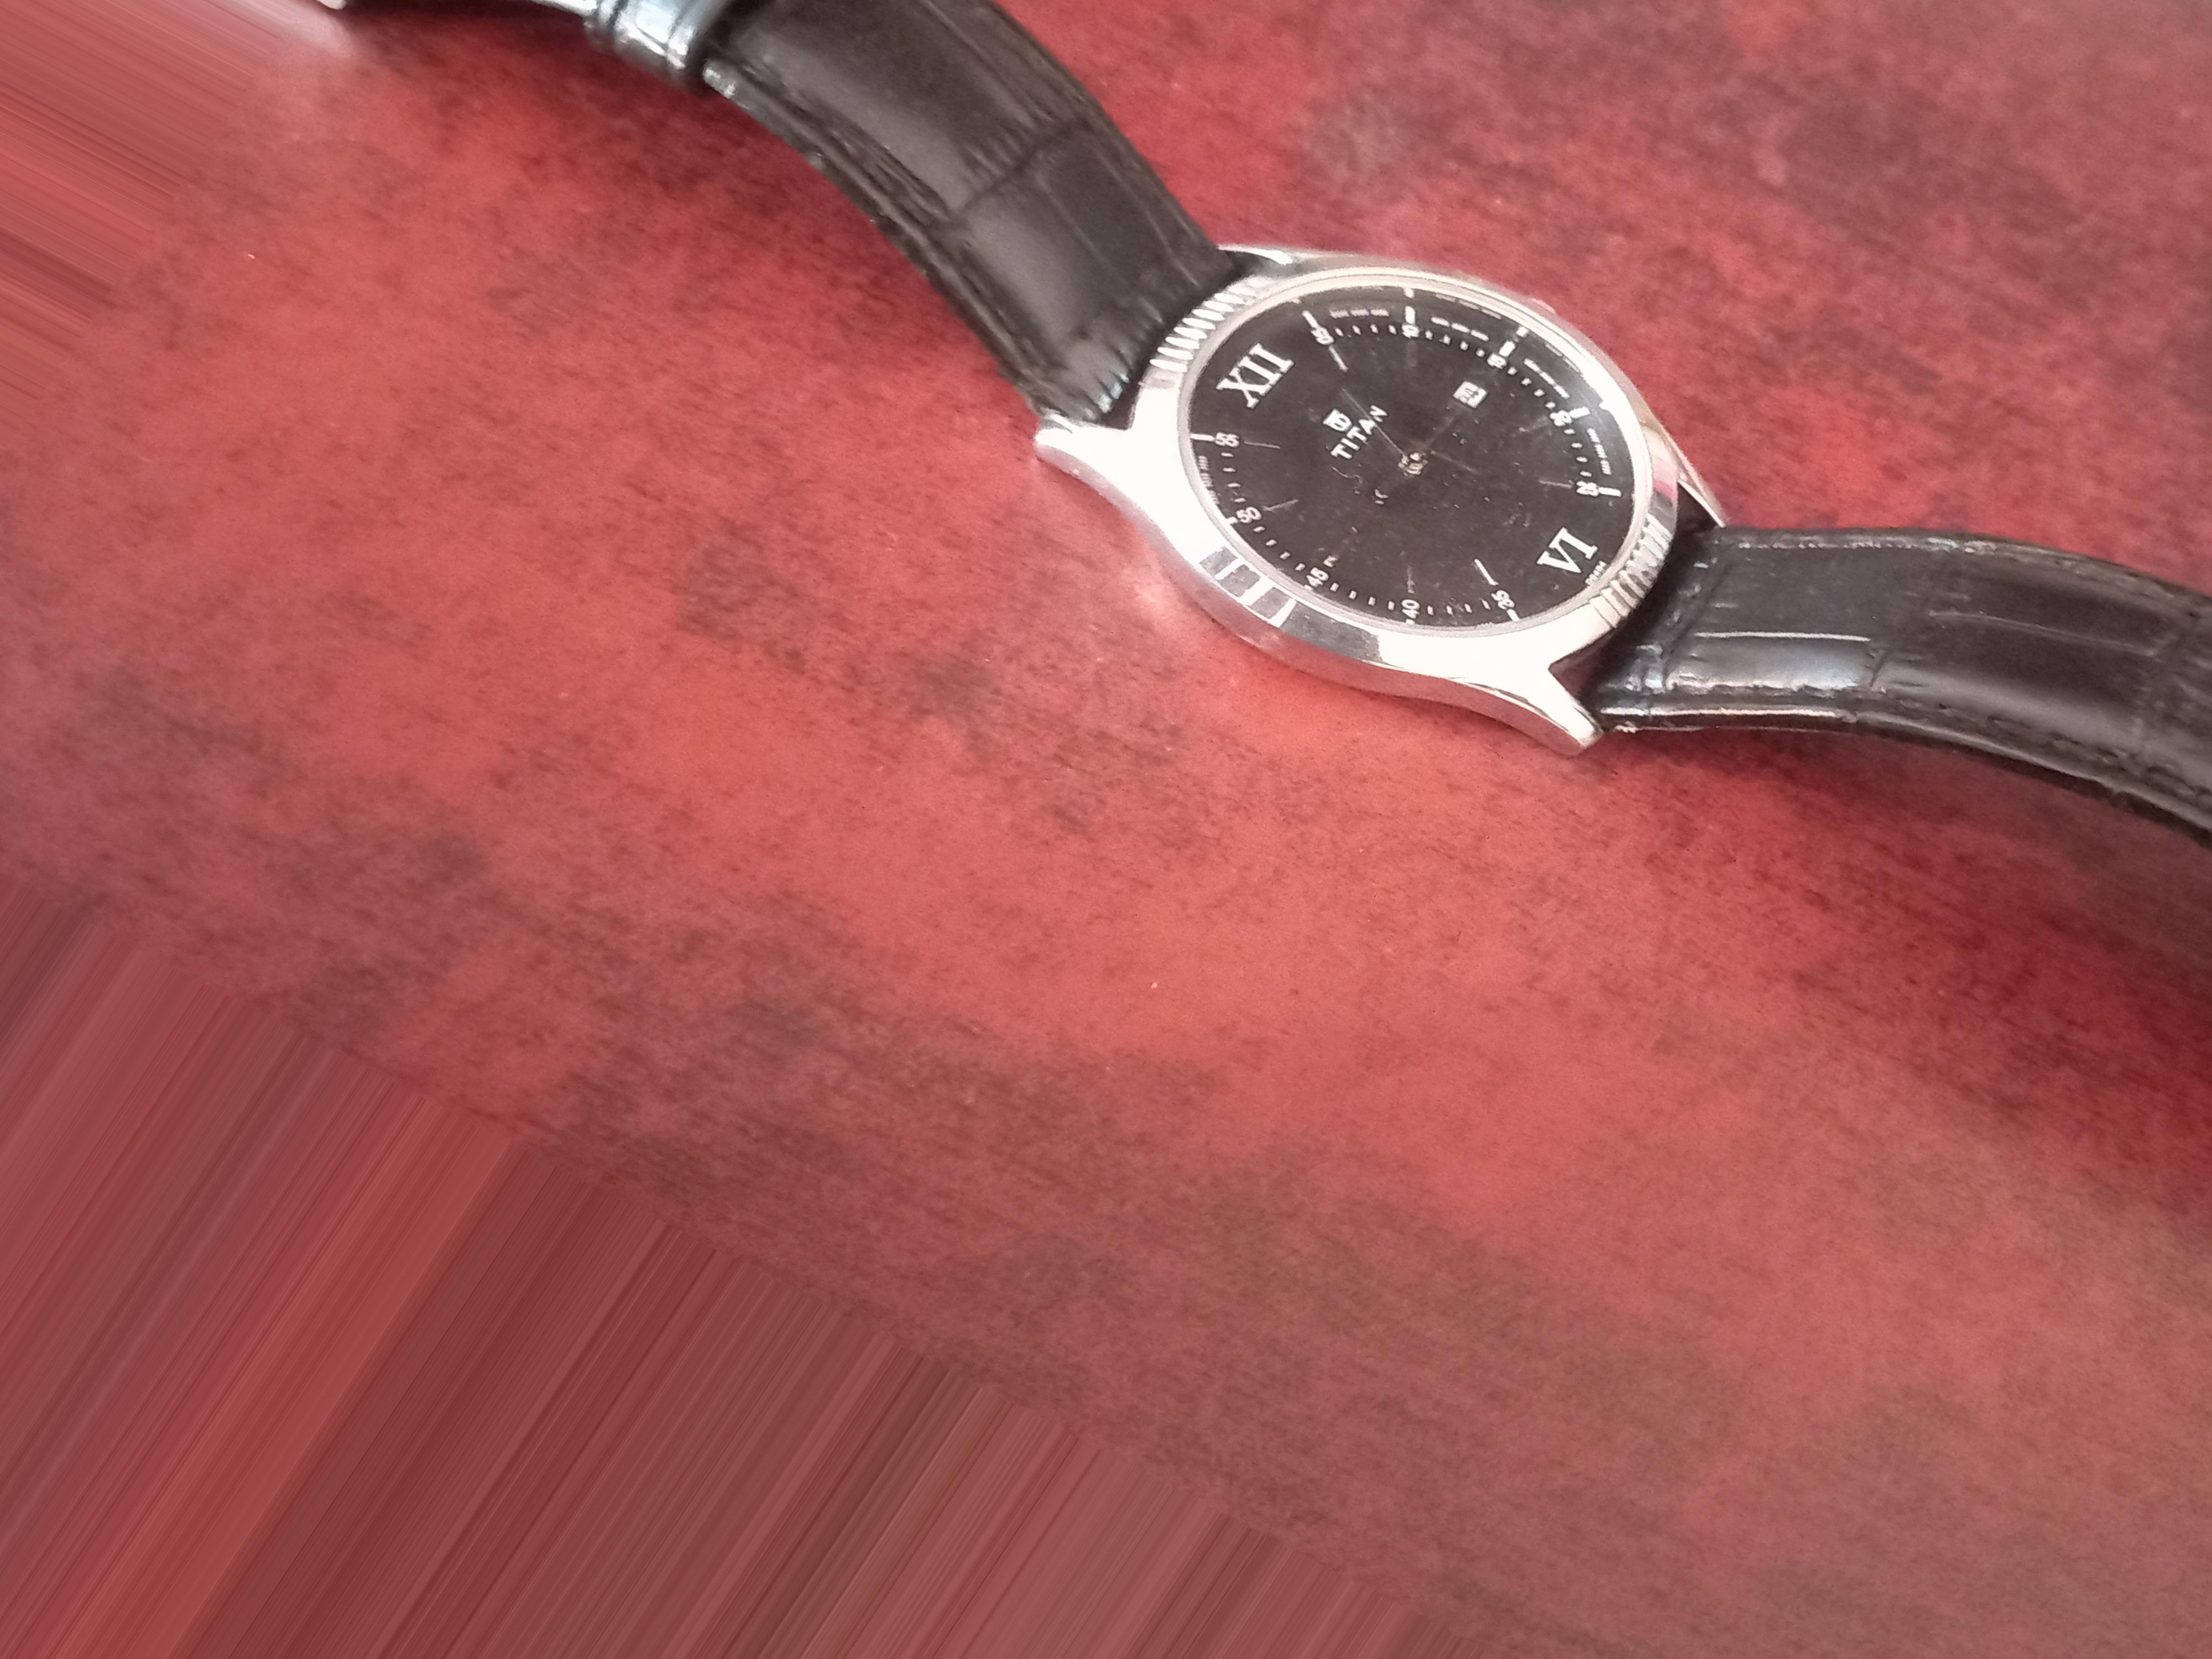watch: (838, 2, 2212, 817)
